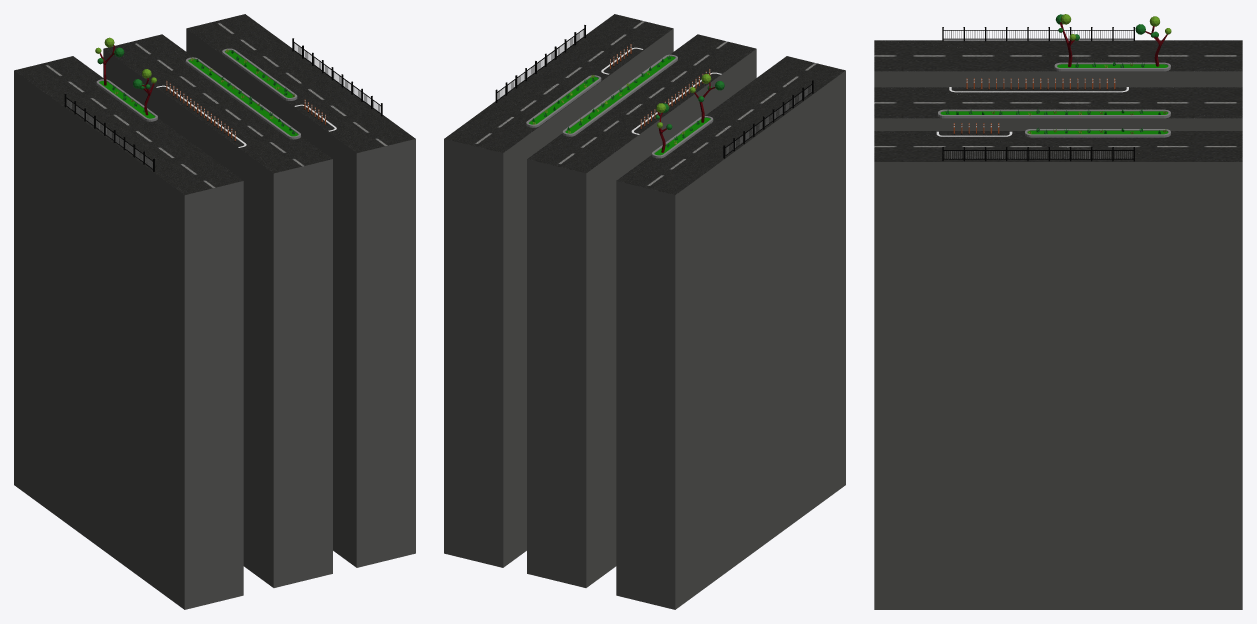
The model's file is stage2.glb.
3 renders of one model, left to right at view 1: azimuth 30°, elevation 25°; view 2: azimuth 150°, elevation 25°; view 3: azimuth 270°, elevation 25°, orthographic. The views are drawn at different scales.
Parts seen in each view (by area): view 1: $Road1, $Road2, $Road3, streetBlock, 큐브, 큐브.001, streetBlock.002, streetBlock.001; view 2: $Road1, $Road2, $Road3, streetBlock, 큐브.001, 큐브, streetBlock.002, streetBlock.001; view 3: $Road3, $Road1, $Road2, streetBlock, 큐브.001, 큐브, streetBlock.002, streetBlock.001.
Boxes of the visible parts, x1=… form: $Road1: x1=14, y1=56, x2=243, y2=609; $Road2: x1=103, y1=34, x2=332, y2=587; $Road3: x1=186, y1=14, x2=415, y2=567; streetBlock: x1=185, y1=57, x2=300, y2=139; 큐브: x1=64, y1=94, x2=154, y2=171; 큐브.001: x1=292, y1=38, x2=382, y2=116; streetBlock.002: x1=222, y1=48, x2=297, y2=100; streetBlock.001: x1=96, y1=79, x2=157, y2=121; $Road1: x1=616, y1=56, x2=845, y2=609; $Road2: x1=527, y1=34, x2=756, y2=587; $Road3: x1=444, y1=14, x2=673, y2=567; streetBlock: x1=562, y1=54, x2=677, y2=136; 큐브.001: x1=495, y1=25, x2=585, y2=102; 큐브: x1=723, y1=80, x2=813, y2=158; streetBlock.002: x1=526, y1=75, x2=601, y2=127; streetBlock.001: x1=652, y1=116, x2=713, y2=158; $Road3: x1=874, y1=131, x2=1242, y2=609; $Road1: x1=874, y1=40, x2=1242, y2=87; $Road2: x1=874, y1=87, x2=1242, y2=130; streetBlock: x1=938, y1=109, x2=1170, y2=118; 큐브.001: x1=942, y1=147, x2=1134, y2=161; 큐브: x1=942, y1=27, x2=1134, y2=41; streetBlock.002: x1=1025, y1=129, x2=1170, y2=137; streetBlock.001: x1=1054, y1=62, x2=1170, y2=71.
Bounding box in the file's own units: 23.47 × 44.96 × 30.
13 materials, 1 textured.
